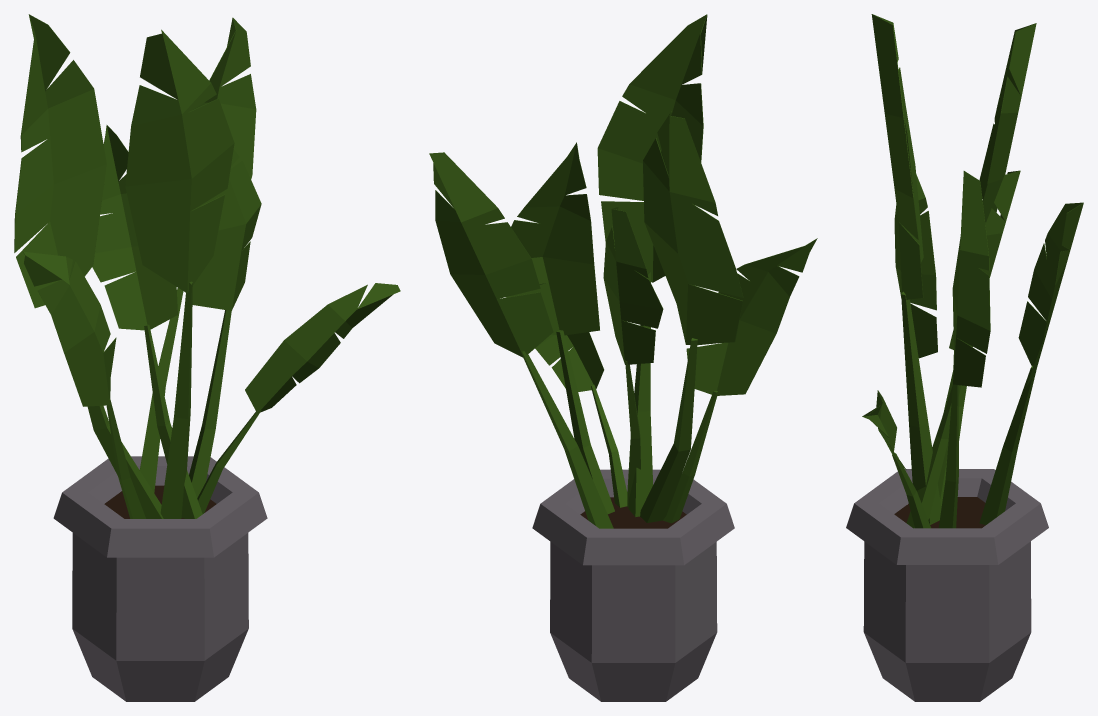
3 views of the same model, side by side, from view 1: azimuth 30°, elevation 25°; view 2: azimuth 150°, elevation 25°; view 3: azimuth 270°, elevation 25° (orthographic). The views are drawn at different scales.
Visible parts, largest first — view 1: FlowerPot4; view 2: FlowerPot4; view 3: FlowerPot4.
Part boxes in pixels (x1,y1,x2,y2): FlowerPot4: (14, 14, 400, 701); FlowerPot4: (429, 14, 817, 701); FlowerPot4: (846, 14, 1083, 701).
Bounding box in the file's own units: 1.03 × 1.85 × 0.6182.
